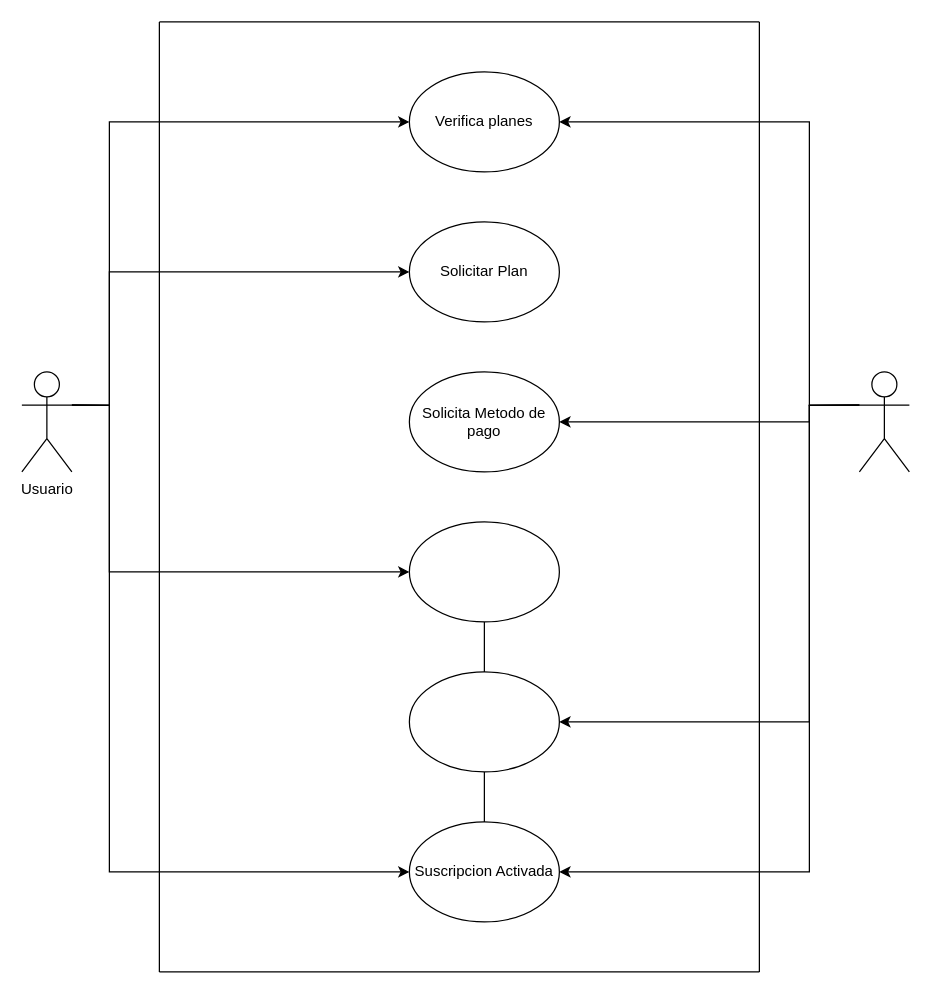
The diagram is 940 pixels wide and 995 high, and some of its shapes have lost their labels. Here are the shapes that lost their labels. From the top down, the centre of each, then its label:
the point at 883,421: Aplicacion
the point at 483,571: Introduce Informacion
the point at 483,721: Verifica Informacion
